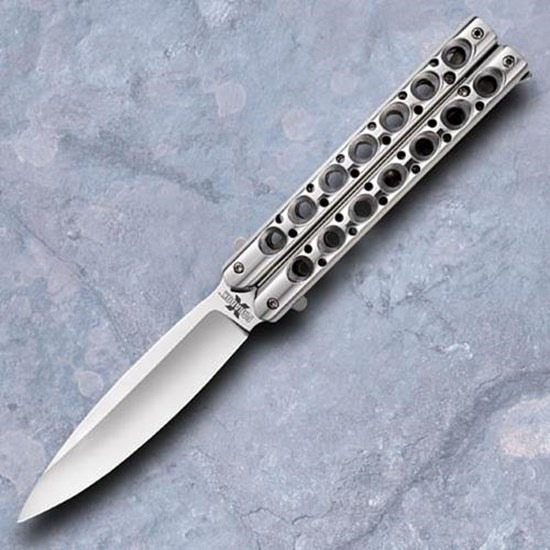knife: (12, 16, 536, 529)
